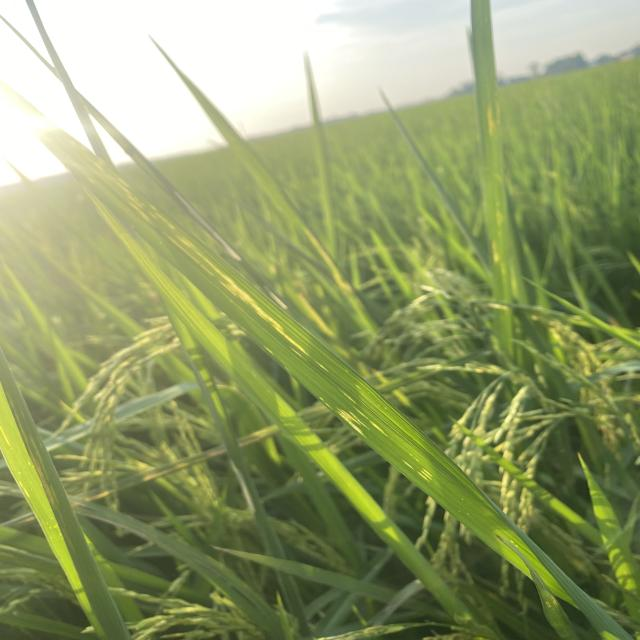Dom soc vi khuan: (176, 235, 310, 356), (334, 406, 371, 439), (352, 406, 388, 436), (401, 459, 414, 470), (417, 471, 430, 482), (420, 470, 432, 480), (422, 468, 433, 477)
